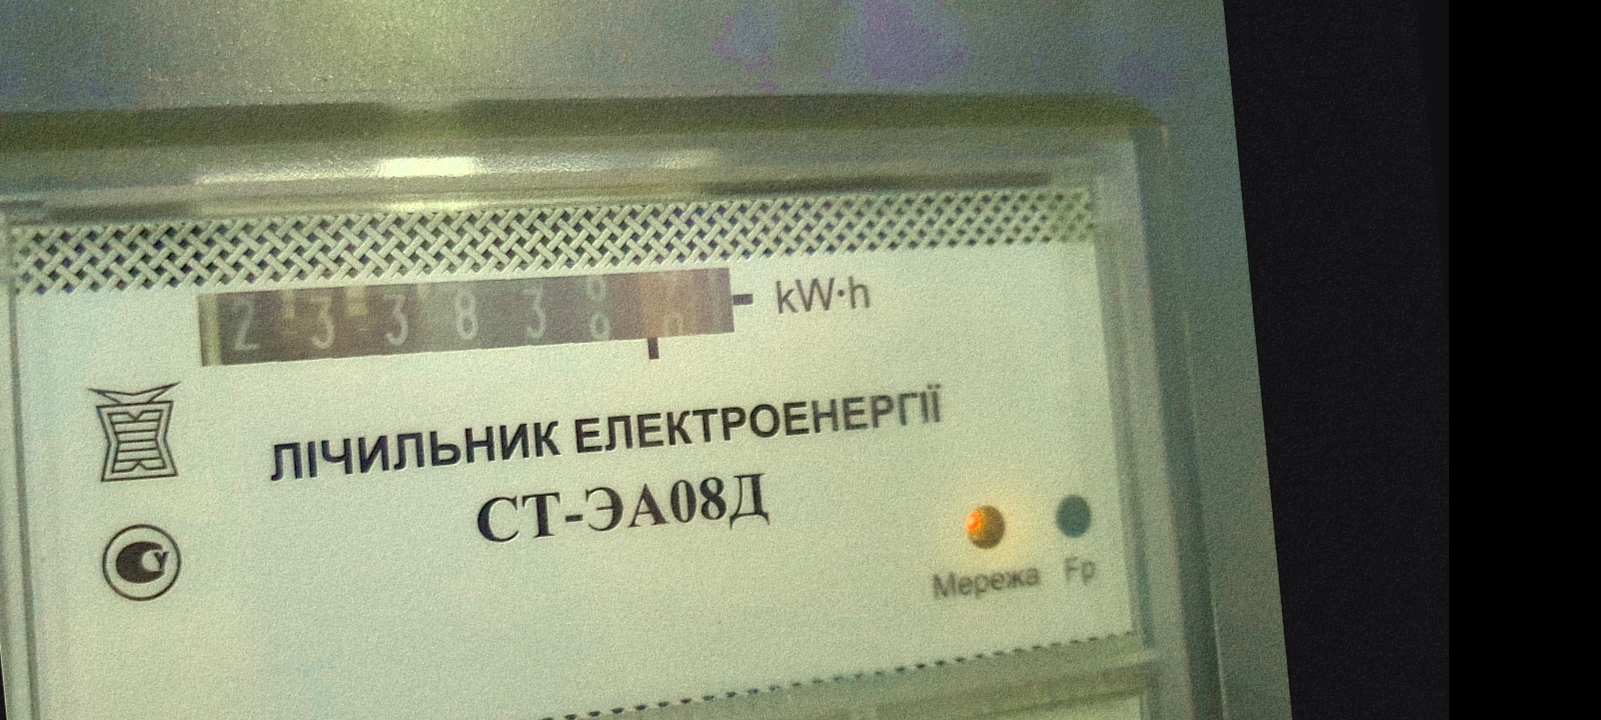0: (659, 308, 688, 344)
2: (223, 292, 266, 356)
3: (374, 285, 416, 352), (519, 281, 552, 341), (305, 291, 338, 352)
8: (446, 283, 485, 344), (583, 269, 612, 303)
9: (652, 263, 686, 305), (585, 308, 616, 346)
screen: (164, 219, 769, 431)
